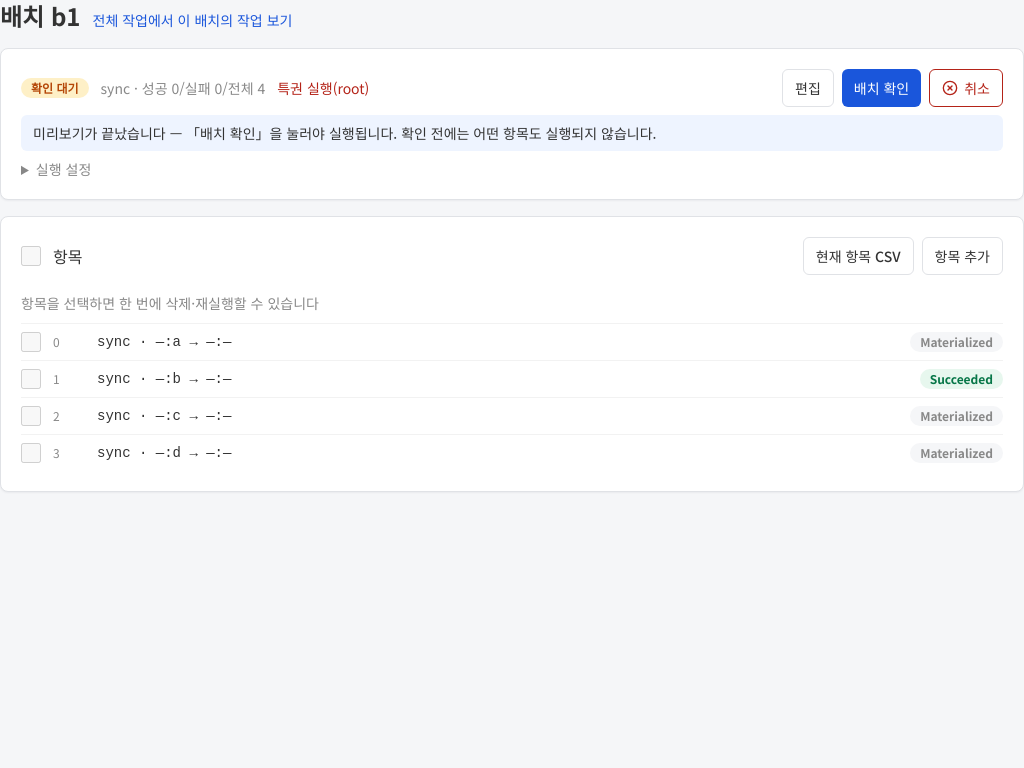
Test: 배치 확인 대화상자: 만료된 미리보기·이미 성공한 항목을 따로 세어 행이 전체와 맞는다(만료는 서버 판정만)
Click the button "배치 확인": (882, 88) [842,69,921,107]
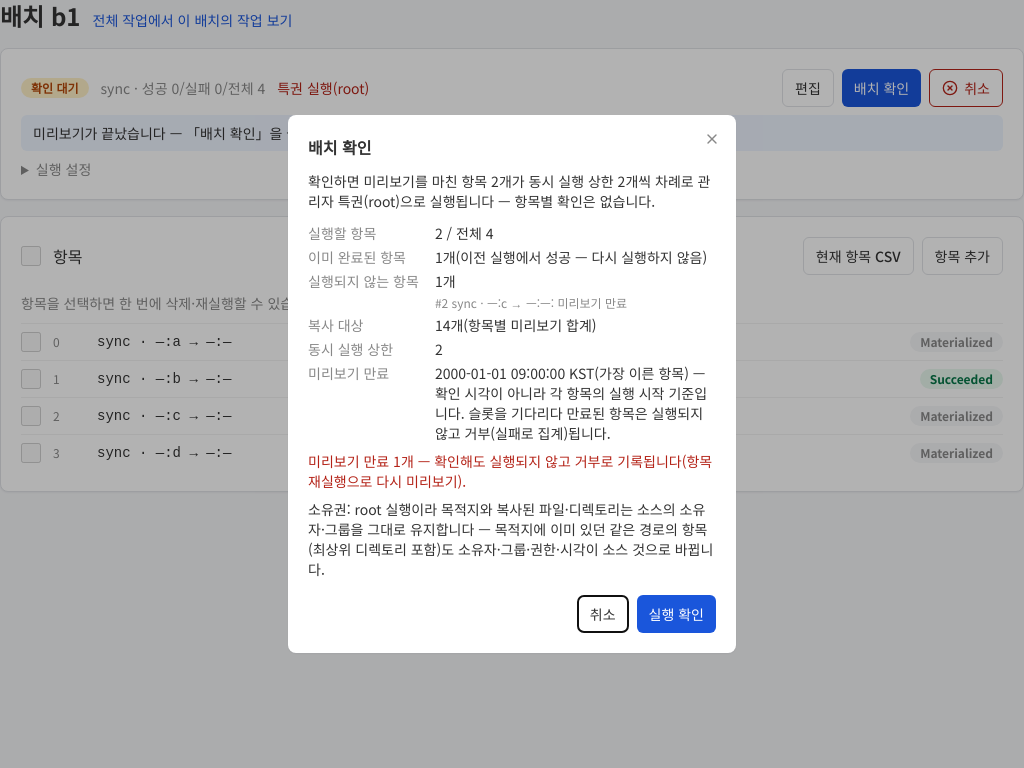
Now the text "2 / 전체 4" is shown, box [435,223,494,243]
Now the text "1개(이전 실행에서 성공 — 다시 실행하지 않음)" is shown, box [435,247,716,267]
Now the list items read "#2 sync · —:c → —:—: 미리보기 만료", in this order, box [435,294,627,311]
